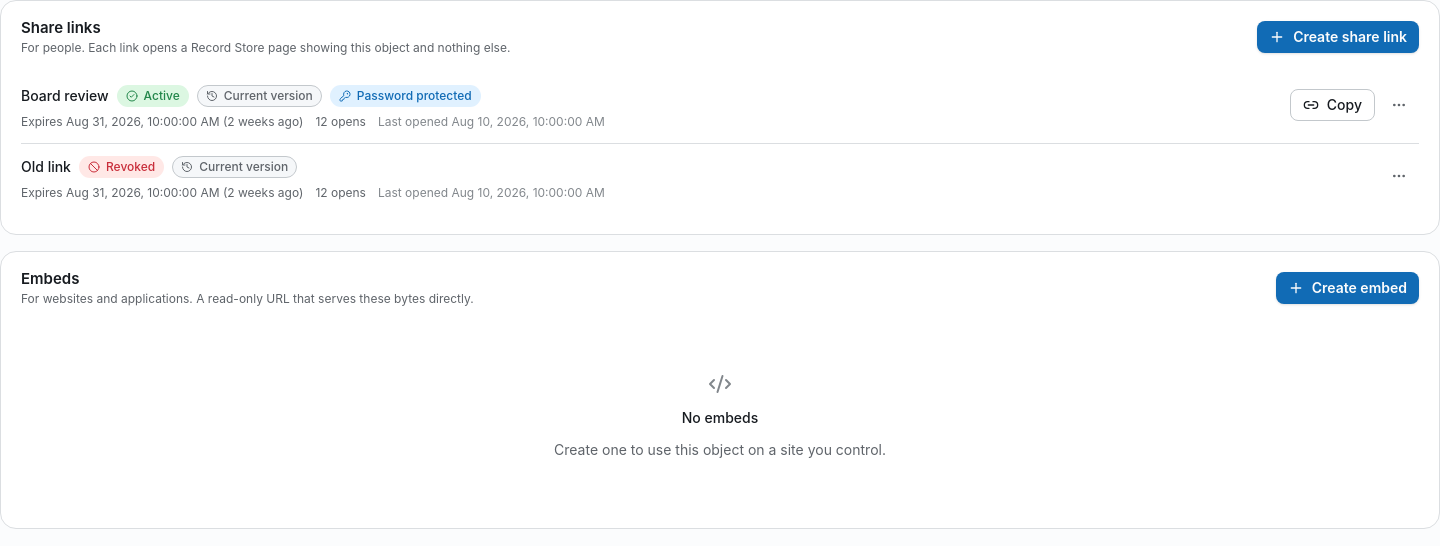
SharingTab › offers deletion only once a link is already inert
Expected: the text "Old link" is shown, [21,156,71,178]
Click the button named "Actions for Board review" at {"x": 1399, "y": 105}, box [1379,85,1419,125]
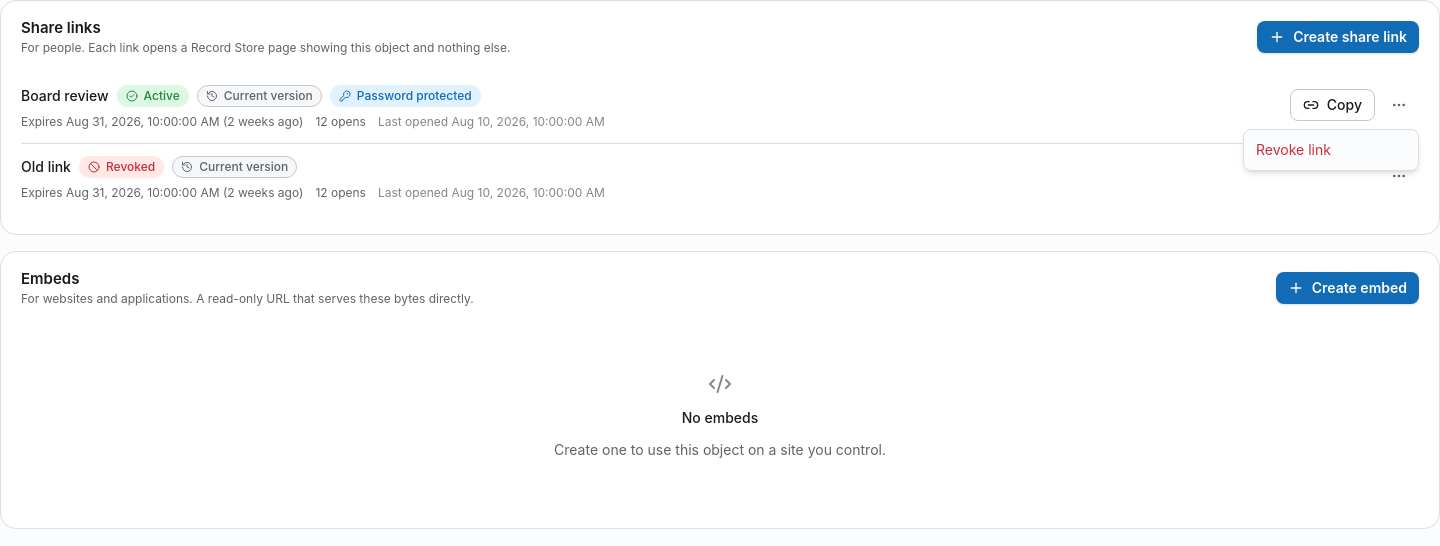
Expected: the menu item "Delete record" is not shown
Expected: the menu item "Revoke link" is shown, [1256,141,1331,158]
Press Escape
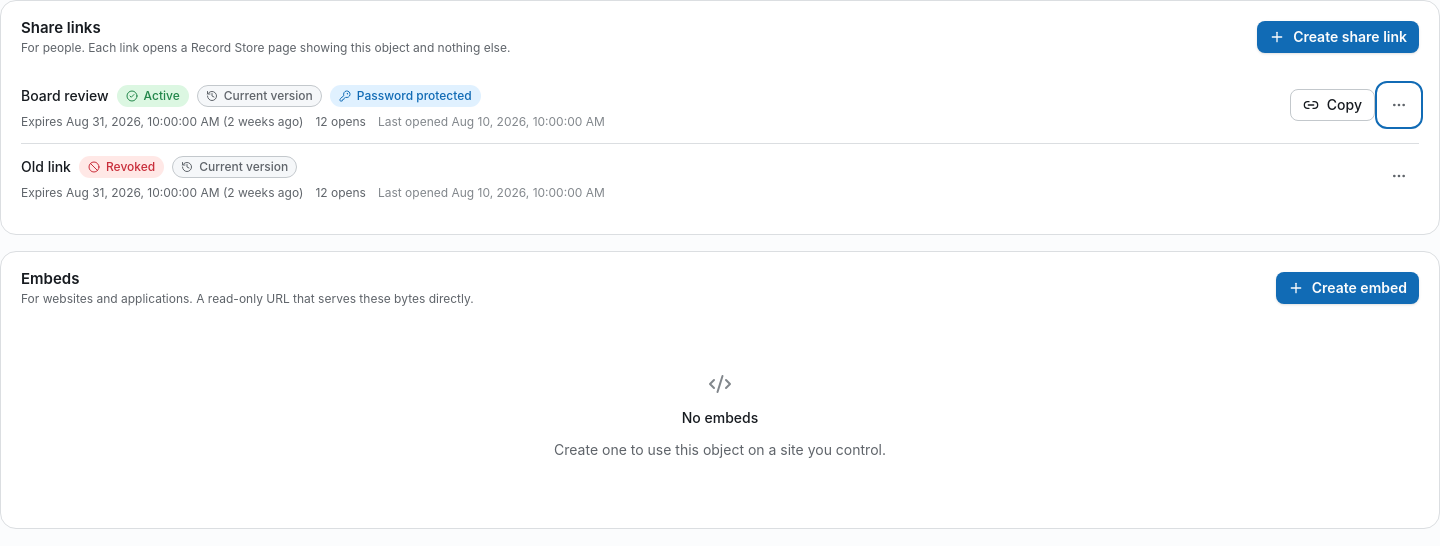
Click the button named "Actions for Old link" at {"x": 1399, "y": 176}, box [1379,156,1419,196]
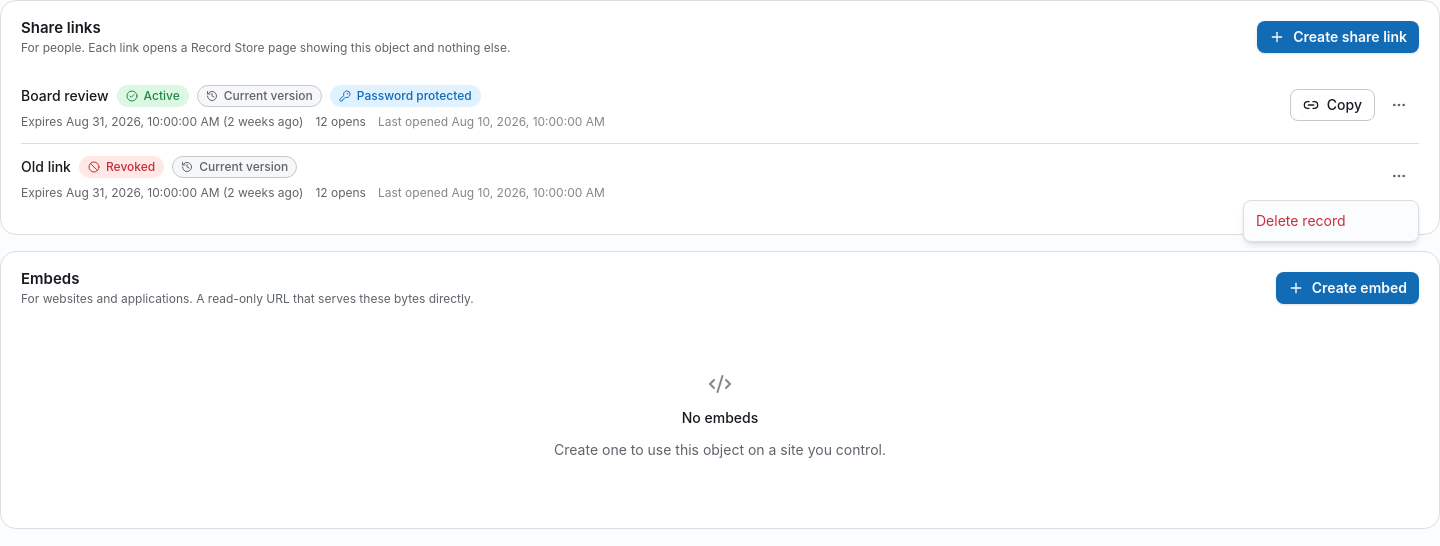
Expected: the menu item "Revoke link" is not shown
Expected: the menu item "Delete record" is shown, [1256,212,1346,229]
